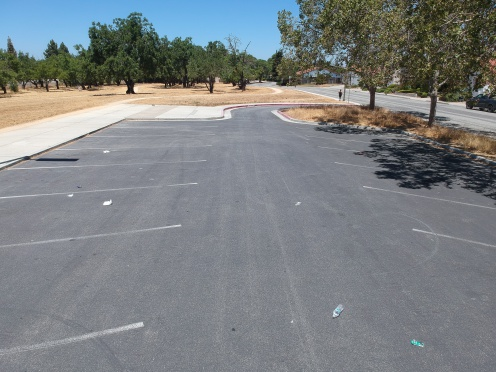bottle: (325, 301, 348, 319)
can: (75, 183, 84, 189)
plastic bag: (98, 196, 114, 206)
